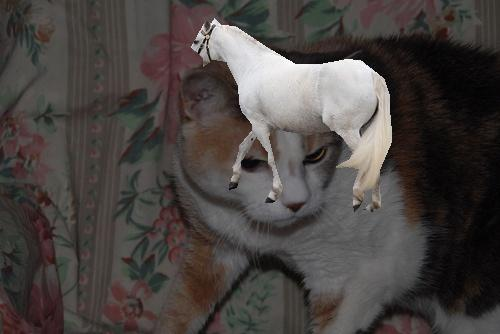tampered: (192, 19, 392, 212)
